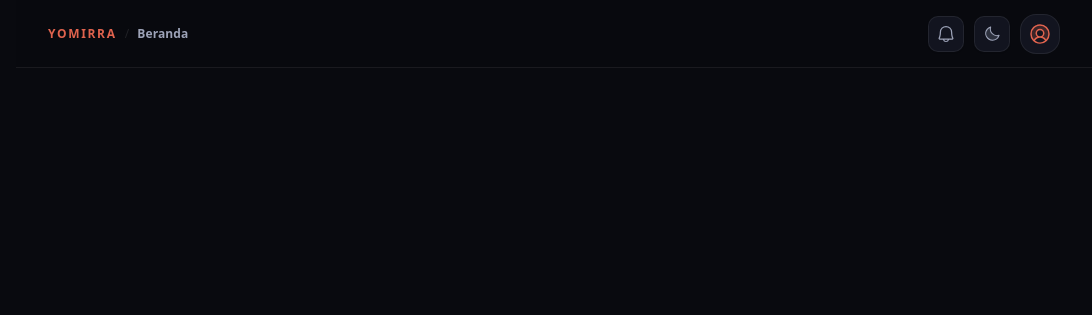
it: App Shell & Navigation Deduplication Pass › TopNav (Global Breadcrumb & Profile Deduplication) › deduplicates profile dropdown: removes Pengaturan, keeps account & logout
This screenshot has width=1092, height=315.
Click the button named "Profil Pengguna" at (1040, 34), box [1020,14,1060,54]
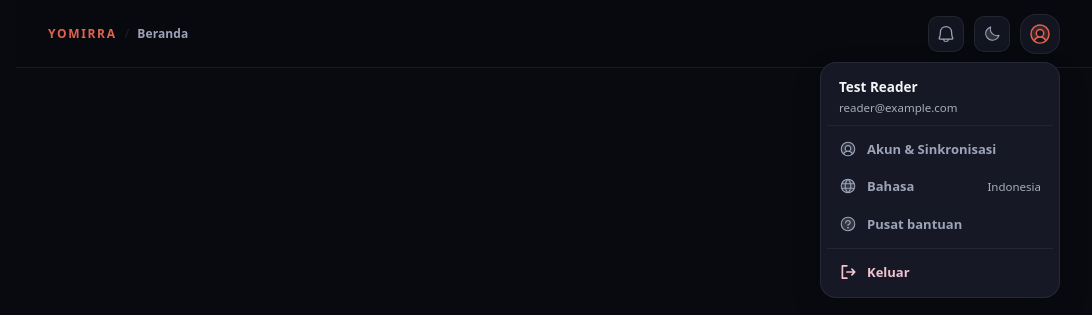
Result: the link "Akun & Sinkronisasi" is shown at [839,139,996,158]
Result: the button "Keluar" is shown at [827,254,1053,290]
